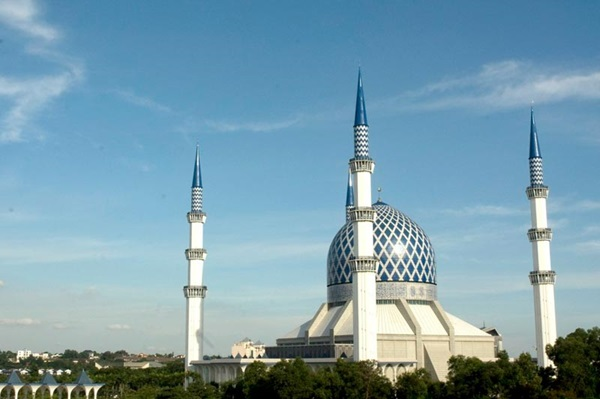Mosque: (166, 71, 560, 373)
